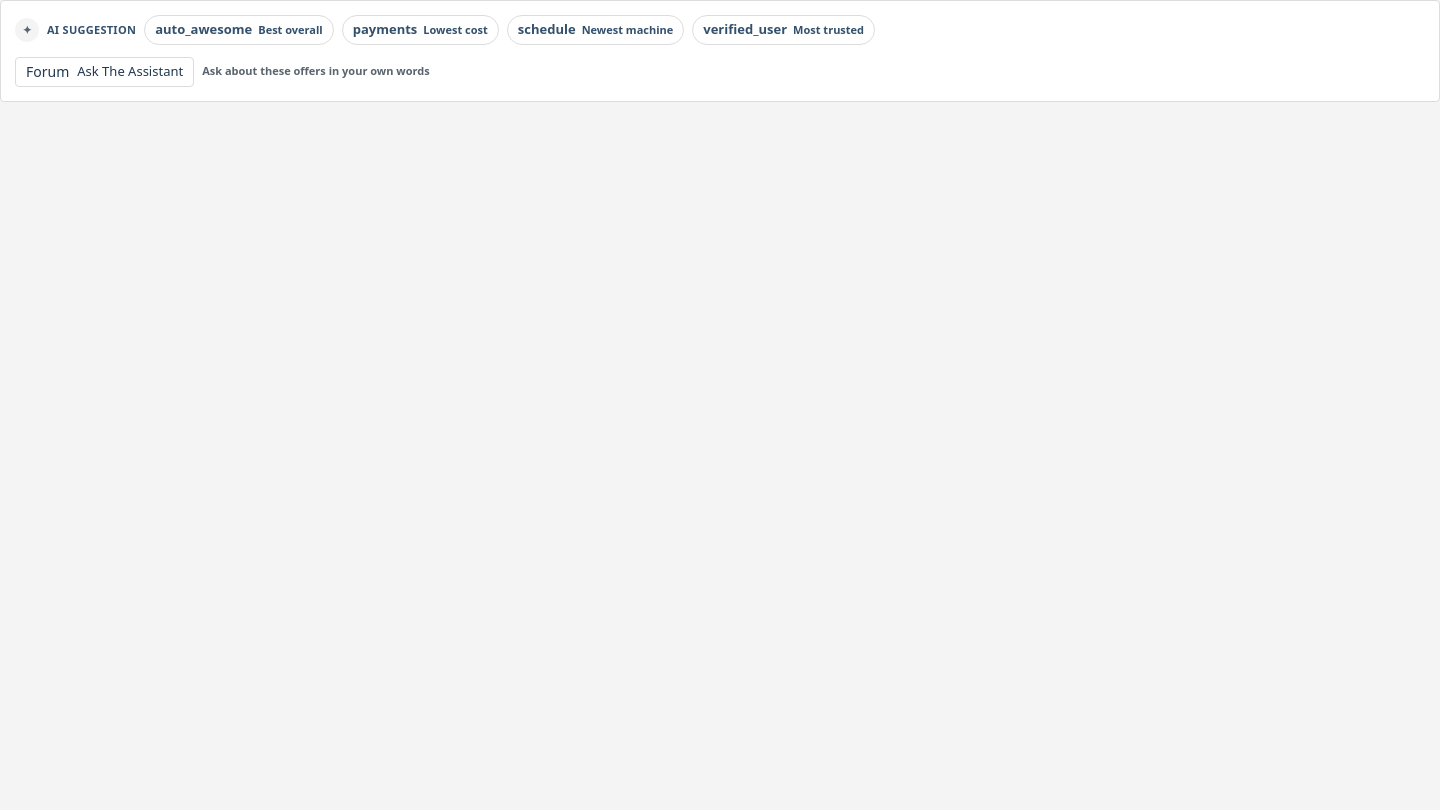
Scenario: the conversation lives in its own panel › keeps the exchange, and re-ranks on the answer
Click the button "forum Ask the assistant": (105, 72) 15,56 -> 194,86
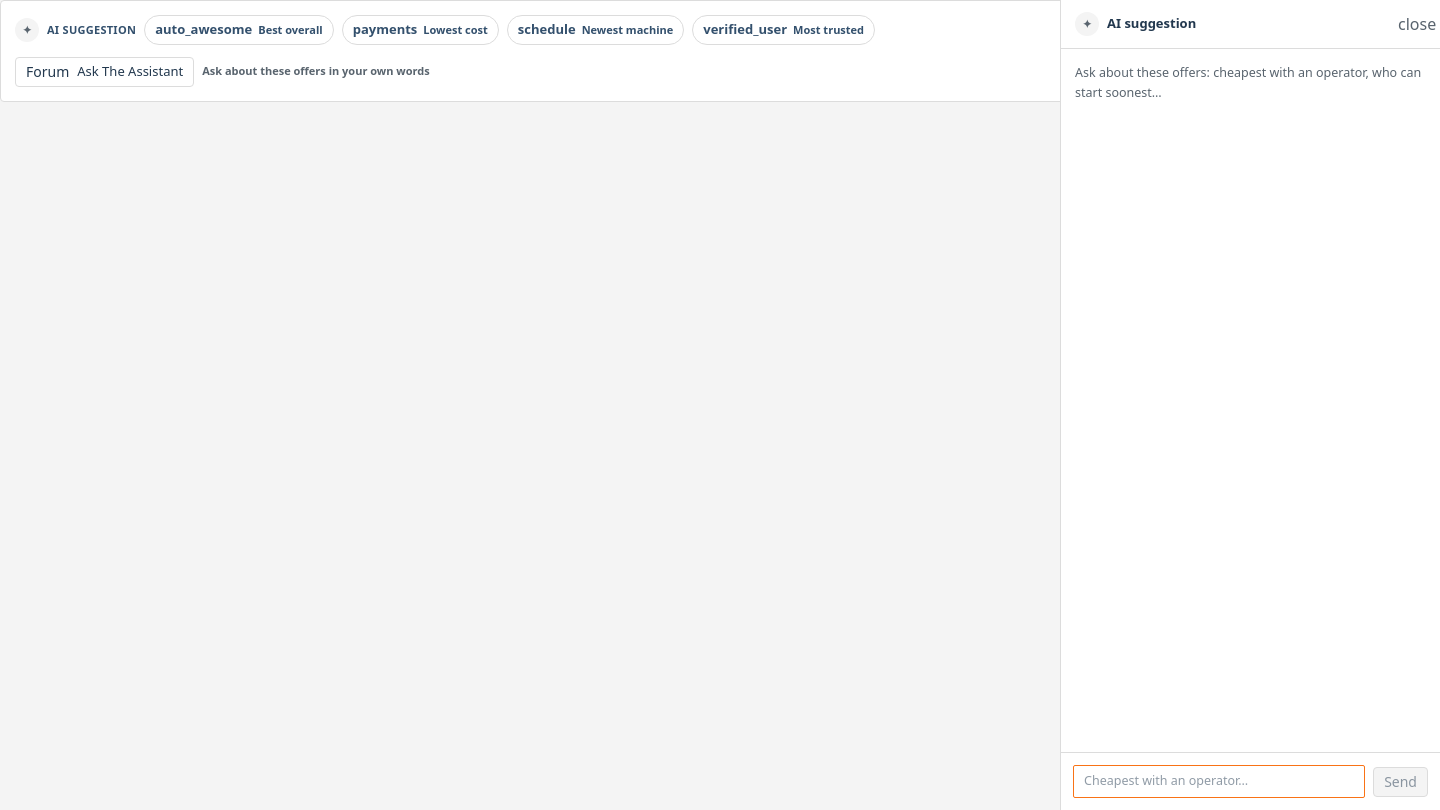
In the field: (1219, 782) 1073,765 -> 1365,798, type "who starts soonest?"
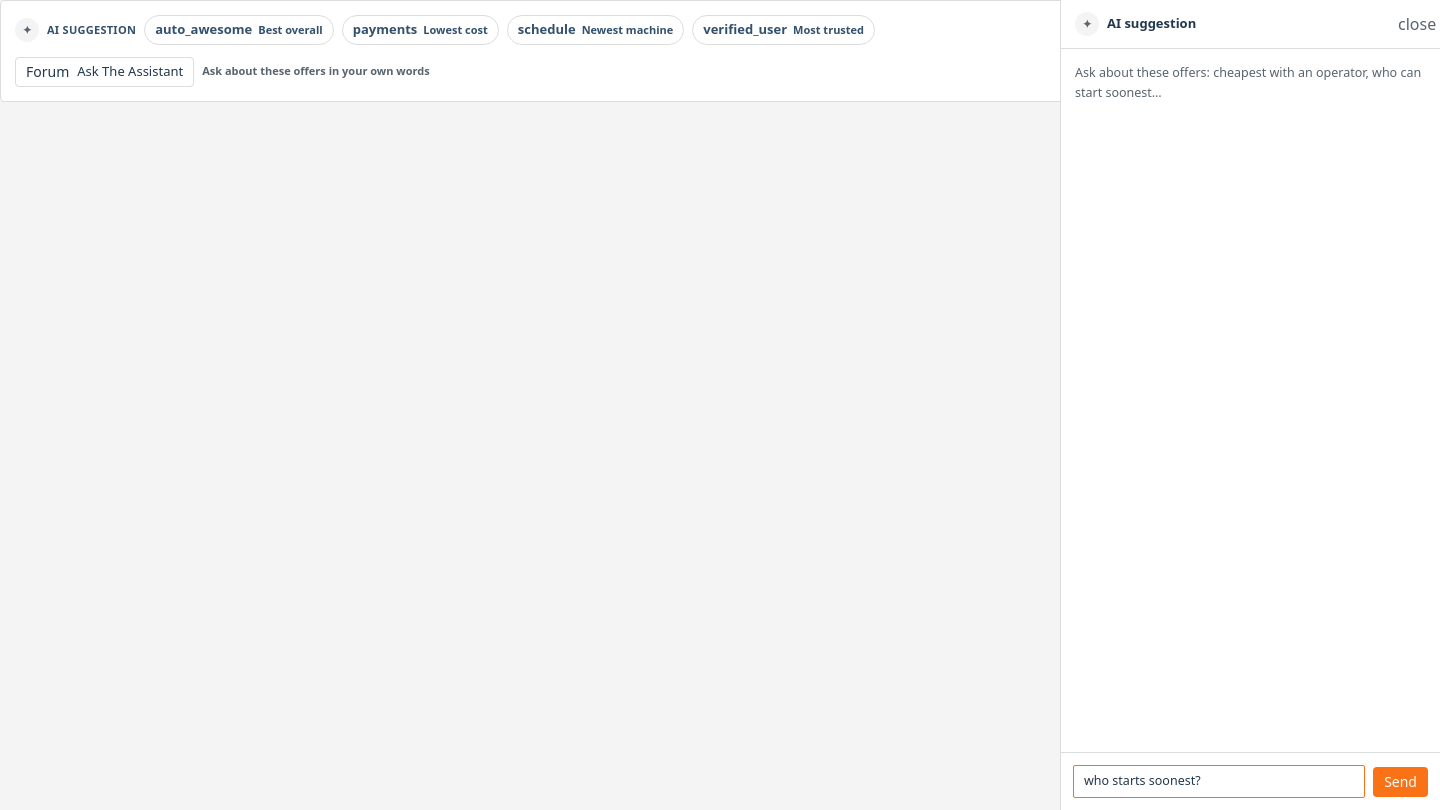
Press Enter in the field, box 1073,765 -> 1365,798
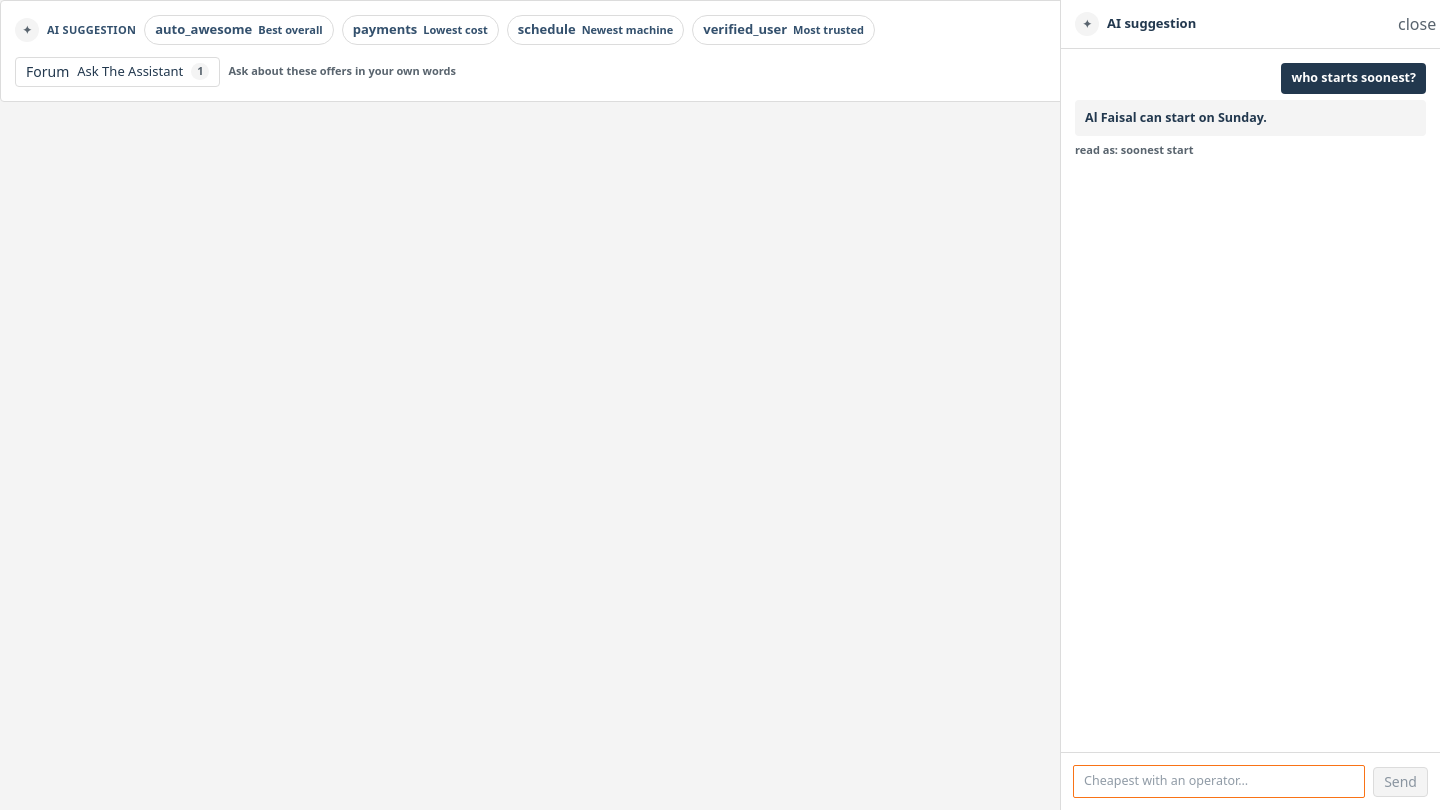
Expected: the text "Al Faisal can start on Sunday." is shown, 1075,100 -> 1426,136
Expected: the text "who starts soonest?" is shown, 1282,63 -> 1426,94
